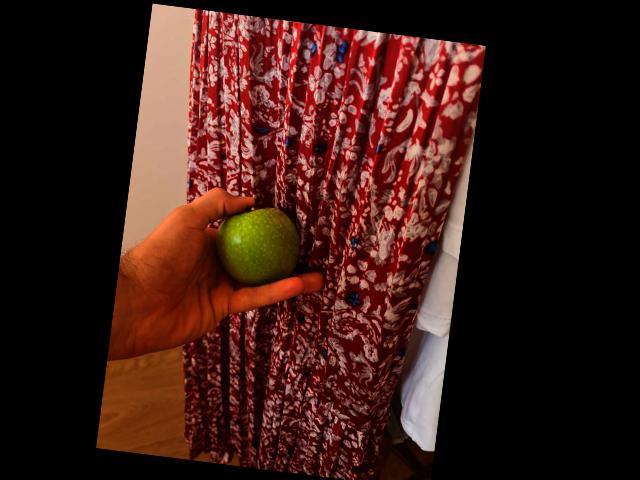apple: (220, 205, 303, 289)
